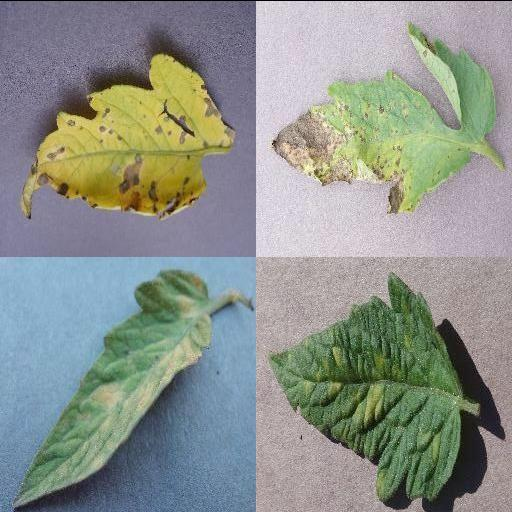Leaf Mold: (10, 268, 214, 508), (268, 268, 464, 502)
Septoria: (274, 21, 498, 212), (19, 51, 237, 219)
